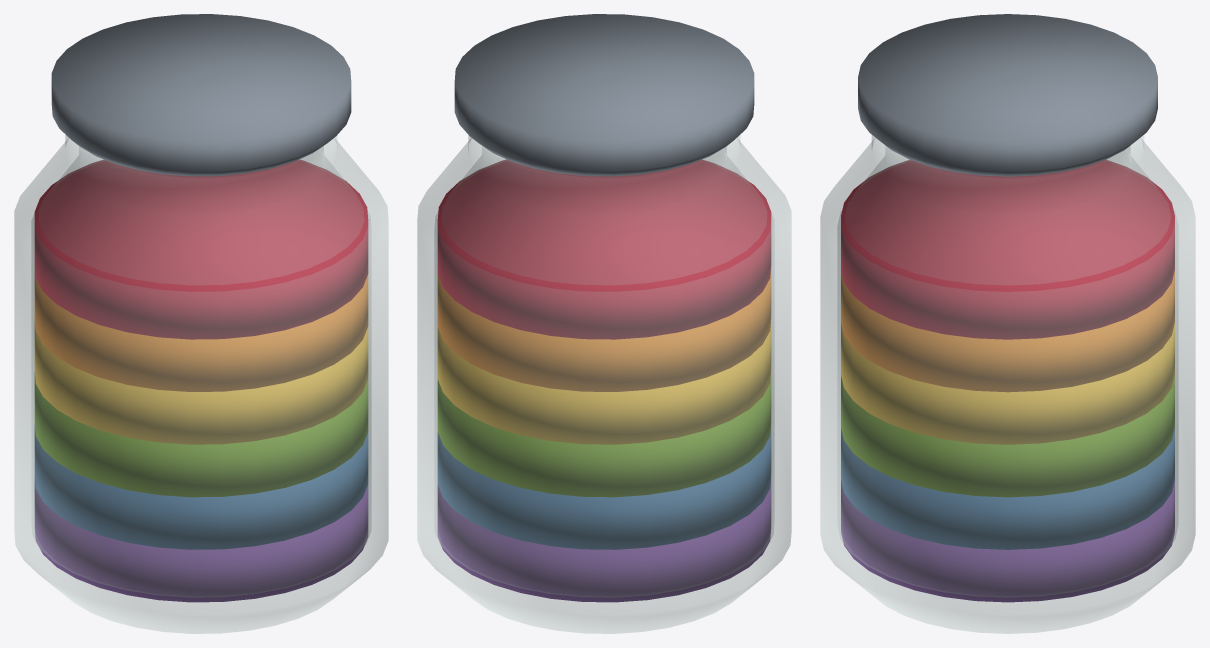
The model's file is zap-apple-jam.glb.
The picture shows the model from 3 angles, left to right: view 1: azimuth 30°, elevation 25°; view 2: azimuth 150°, elevation 25°; view 3: azimuth 270°, elevation 25°; orthographic projection.
Visible parts, largest first — view 1: container_jar, edible_zap_jam.005, container_lid, edible_zap_jam, edible_zap_jam.002, edible_zap_jam.003, edible_zap_jam.001, edible_zap_jam.004; view 2: container_jar, edible_zap_jam.005, container_lid, edible_zap_jam, edible_zap_jam.002, edible_zap_jam.003, edible_zap_jam.001, edible_zap_jam.004; view 3: container_jar, edible_zap_jam.005, container_lid, edible_zap_jam, edible_zap_jam.002, edible_zap_jam.004, edible_zap_jam.003, edible_zap_jam.001.
Part boxes in pixels (bbox=[...]): container_jar: bbox=[14, 135, 388, 633]; edible_zap_jam.005: bbox=[34, 159, 368, 339]; container_lid: bbox=[51, 14, 351, 176]; edible_zap_jam: bbox=[34, 477, 368, 602]; edible_zap_jam.002: bbox=[34, 372, 368, 497]; edible_zap_jam.003: bbox=[34, 320, 368, 444]; edible_zap_jam.001: bbox=[34, 425, 368, 549]; edible_zap_jam.004: bbox=[34, 267, 368, 391]; container_jar: bbox=[417, 135, 791, 633]; edible_zap_jam.005: bbox=[437, 159, 771, 339]; container_lid: bbox=[454, 14, 754, 176]; edible_zap_jam: bbox=[437, 477, 771, 602]; edible_zap_jam.002: bbox=[437, 372, 771, 497]; edible_zap_jam.003: bbox=[437, 320, 771, 444]; edible_zap_jam.001: bbox=[437, 425, 771, 549]; edible_zap_jam.004: bbox=[437, 267, 771, 391]; container_jar: bbox=[820, 135, 1195, 633]; edible_zap_jam.005: bbox=[841, 160, 1174, 339]; container_lid: bbox=[858, 14, 1157, 176]; edible_zap_jam: bbox=[841, 481, 1174, 602]; edible_zap_jam.002: bbox=[841, 376, 1174, 497]; edible_zap_jam.004: bbox=[841, 271, 1174, 392]; edible_zap_jam.003: bbox=[841, 323, 1174, 444]; edible_zap_jam.001: bbox=[841, 428, 1174, 549].
Size of the model in its own units: 0.11 by 0.16 by 0.11.
